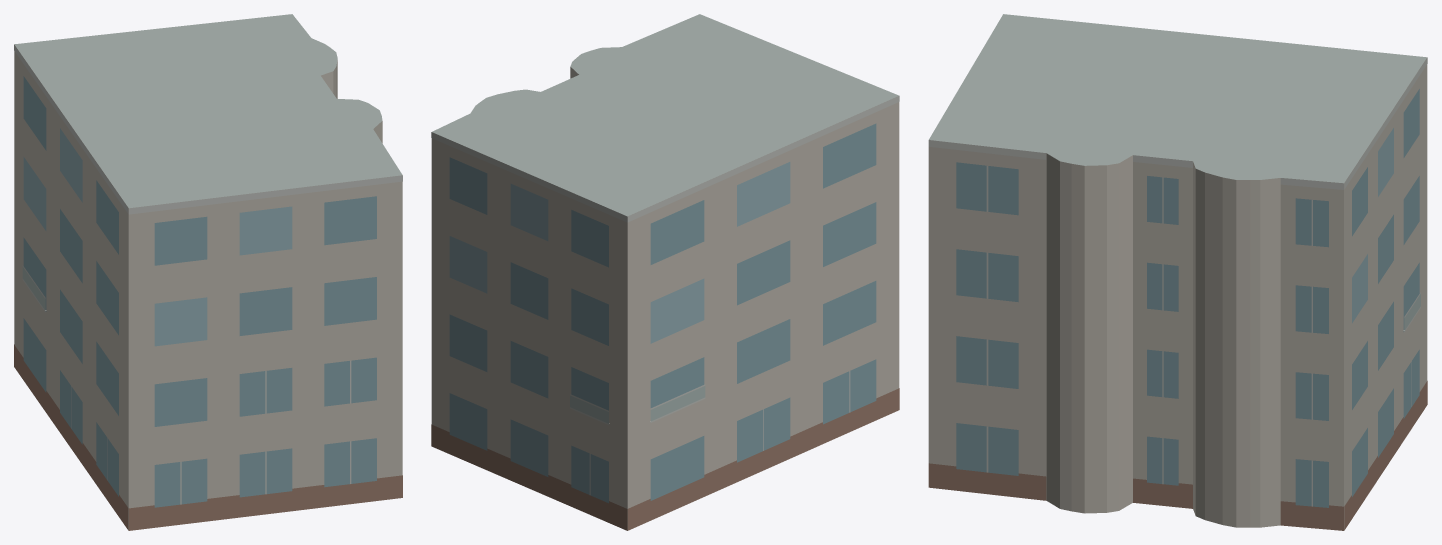
Rendered from survey-upis-32951592.glb.
The picture shows the model from 3 angles, left to right: view 1: azimuth 30°, elevation 25°; view 2: azimuth 150°, elevation 25°; view 3: azimuth 270°, elevation 25°; orthographic projection. The views are drawn at different scales.
Parts seen in each view (by area): view 1: survey-upis-32951592.tmp; view 2: survey-upis-32951592.tmp; view 3: survey-upis-32951592.tmp.
Boxes of the visible parts, bbox=[...] form: survey-upis-32951592.tmp: bbox=[14, 14, 402, 530]; survey-upis-32951592.tmp: bbox=[431, 14, 899, 530]; survey-upis-32951592.tmp: bbox=[928, 14, 1427, 530].
Size of the model in its own units: 13.06 by 12.5 by 16.26.
